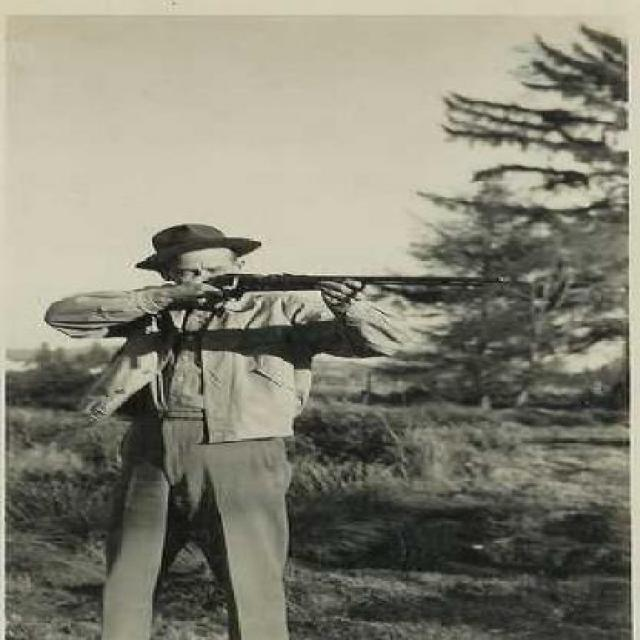weapon: (188, 269, 514, 305)
